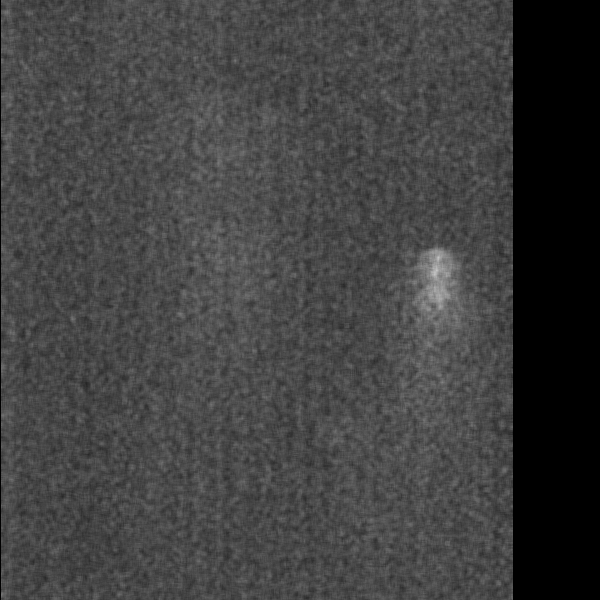spark: (413, 243, 463, 378), (141, 237, 270, 289)
